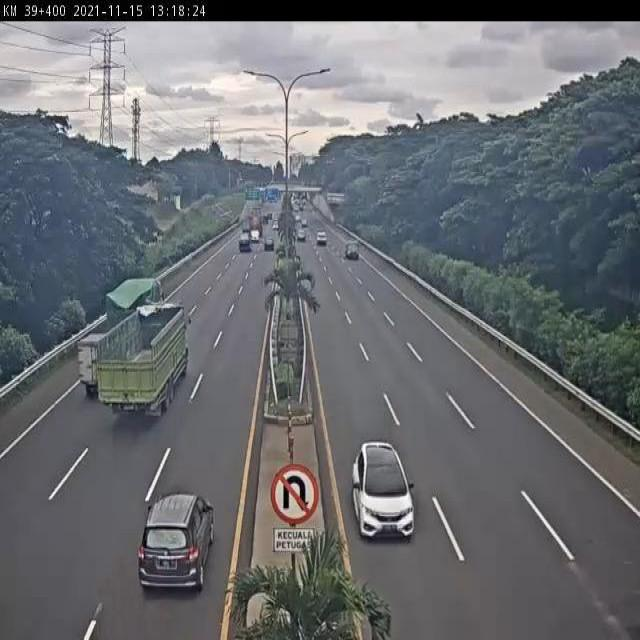car: (135, 493, 216, 600), (349, 439, 416, 540)
truck-l-: (98, 307, 192, 424)
truck-m-: (106, 274, 167, 326)
truck-s-: (72, 333, 114, 395)
